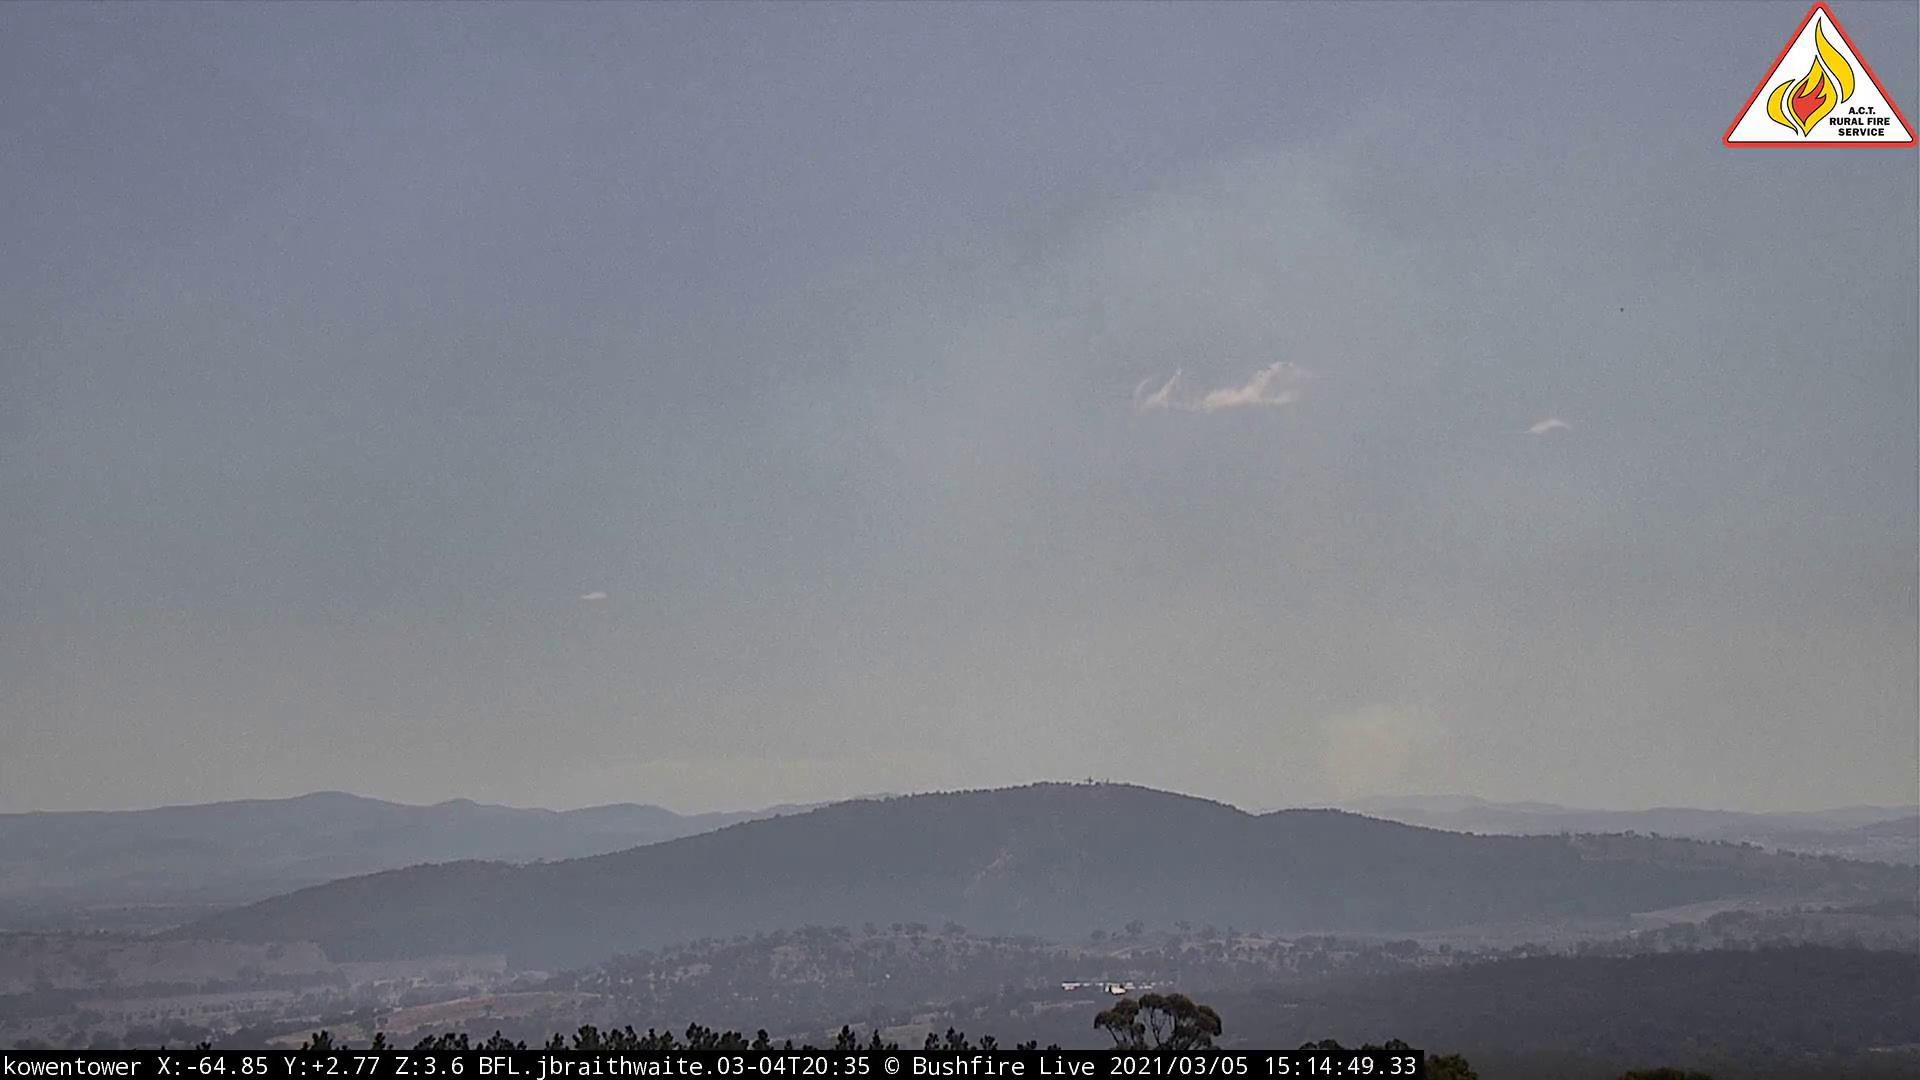Smoke: (836, 214, 1464, 828)
